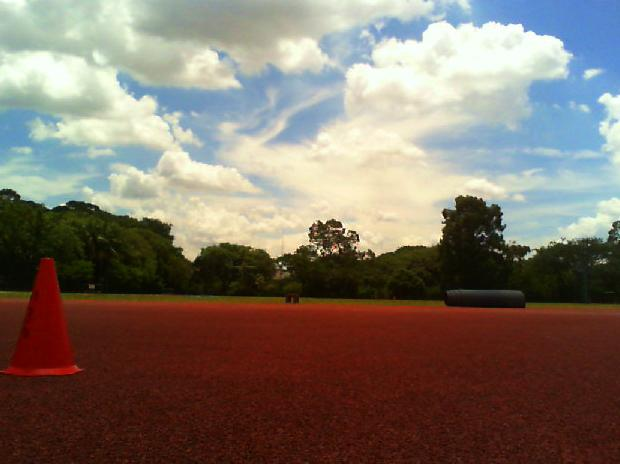0 cone: (0, 259, 83, 376)
